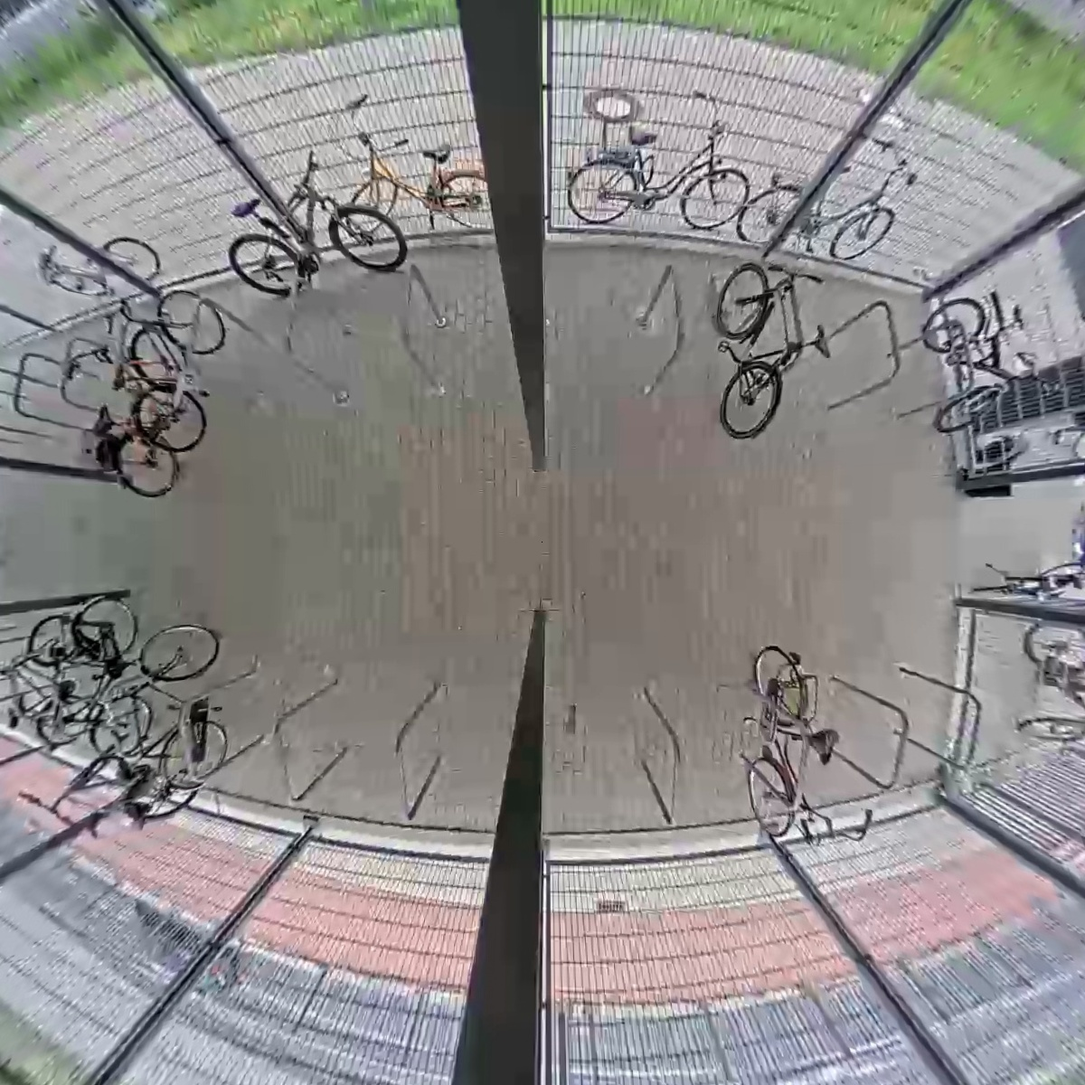bicylce: (115, 290, 225, 453), (129, 623, 227, 792), (226, 204, 410, 294), (99, 321, 179, 495), (70, 578, 144, 759), (717, 261, 790, 440), (748, 646, 814, 835), (3, 599, 85, 749), (72, 734, 201, 820), (924, 296, 1000, 431)
saddle: (812, 728, 840, 764), (87, 405, 114, 434), (232, 193, 260, 218), (814, 324, 828, 357), (111, 364, 126, 391), (118, 755, 131, 783), (6, 704, 19, 731), (1013, 303, 1023, 333)
